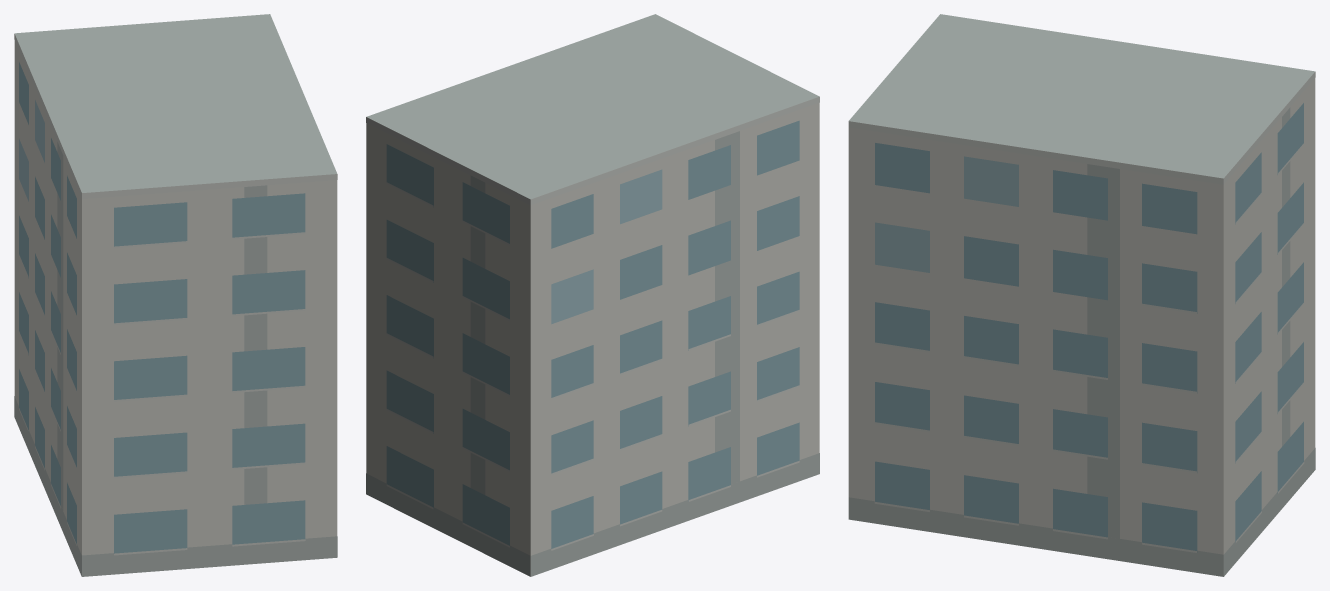
File: residential-042817ad-7775-4f83-acb1-ad3d2aefddfa.glb
3 views of the same model, side by side, from view 1: azimuth 30°, elevation 25°; view 2: azimuth 150°, elevation 25°; view 3: azimuth 270°, elevation 25° (orthographic). The views are drawn at different scales.
Parts seen in each view (by area): view 1: residential-042817ad-7775-4f83-acb1-ad3d2aefddfa.tmp; view 2: residential-042817ad-7775-4f83-acb1-ad3d2aefddfa.tmp; view 3: residential-042817ad-7775-4f83-acb1-ad3d2aefddfa.tmp.
Boxes of the visible parts, x1,y1,x2,y2 form: residential-042817ad-7775-4f83-acb1-ad3d2aefddfa.tmp: (14,14,337,576); residential-042817ad-7775-4f83-acb1-ad3d2aefddfa.tmp: (366,14,819,576); residential-042817ad-7775-4f83-acb1-ad3d2aefddfa.tmp: (848,14,1315,576).
Bounding box in the file's own units: 13.51 × 15.25 × 16.21.
